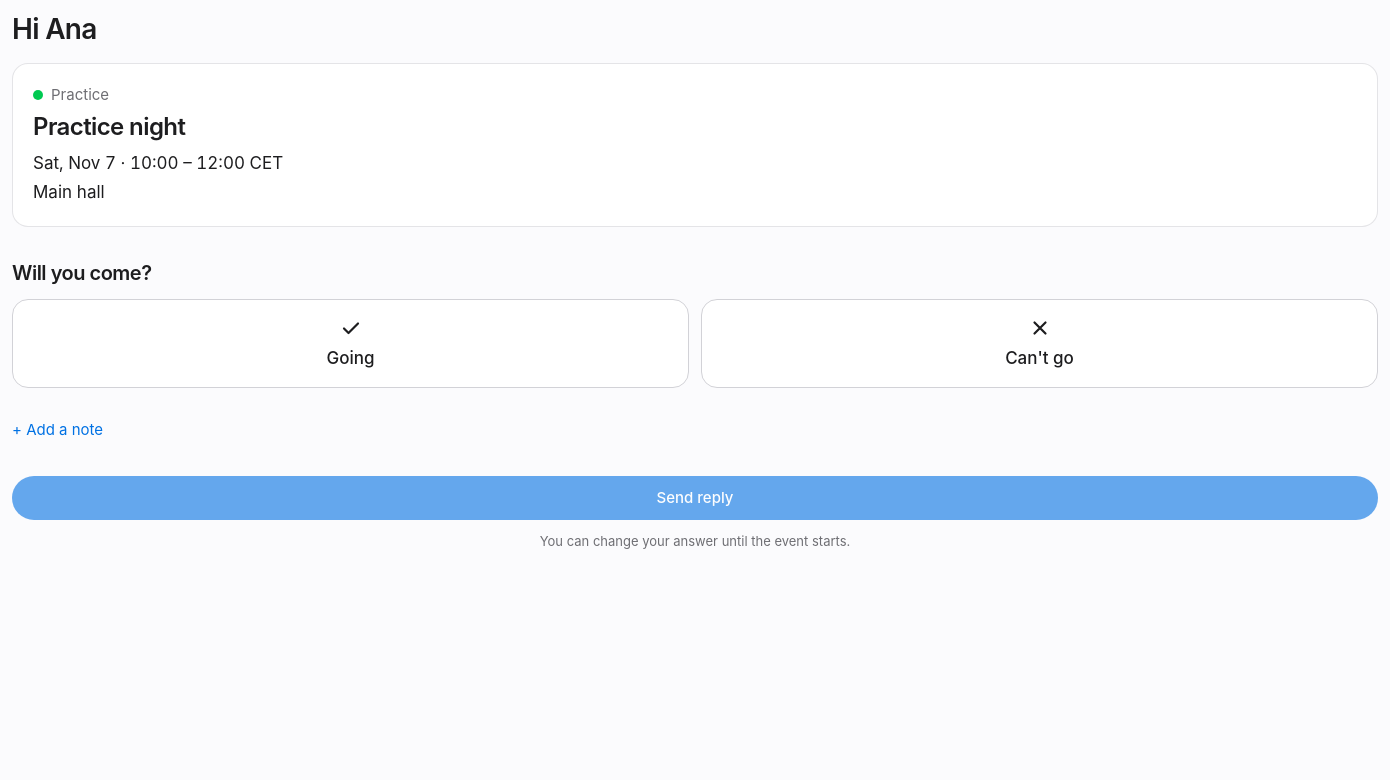
Scenario: MemberAttendanceView › the form › keeps Send reply disabled until a choice is made
Expected: the button "Send reply" is disabled, [12, 476, 1378, 520]
Step 1. Click the radio button labelled "Going" → click(350, 358), box [12, 298, 689, 388]
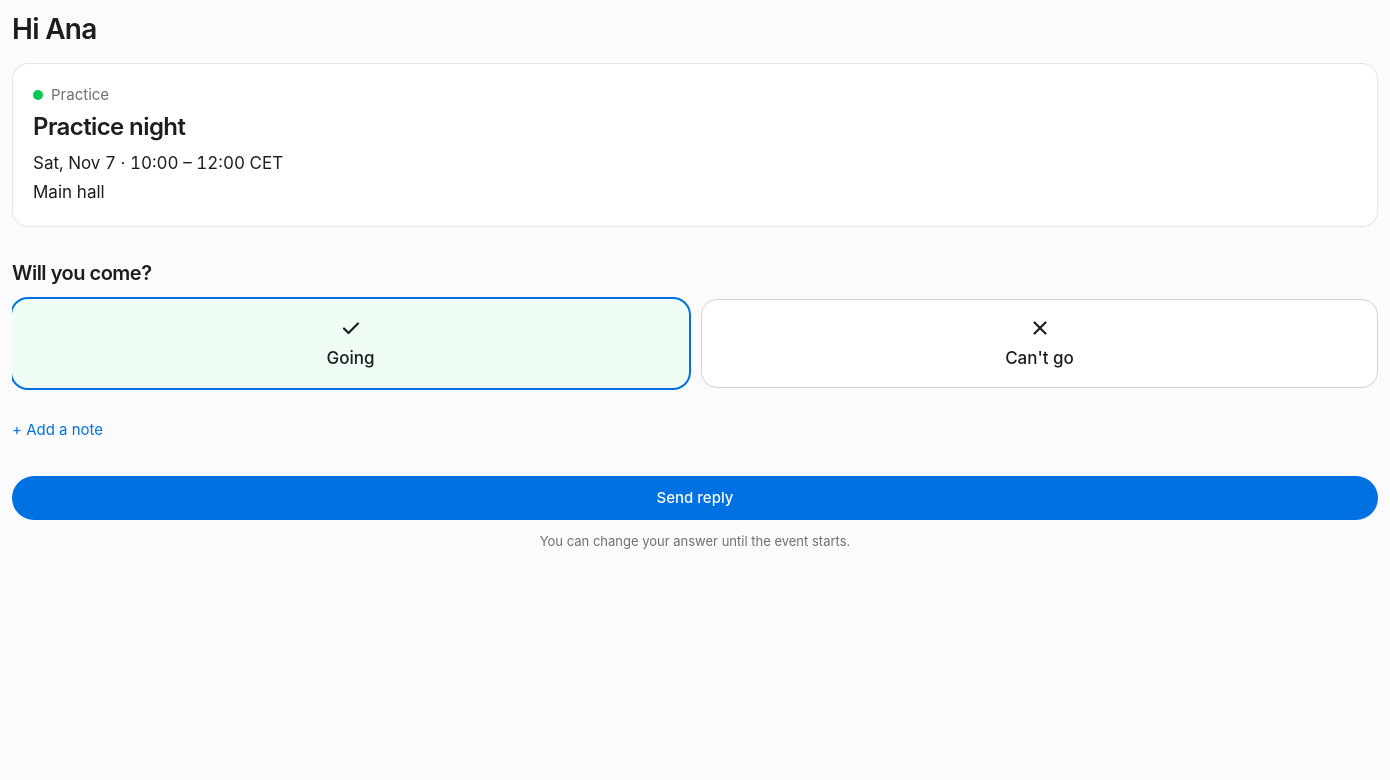
Now the button "Send reply" is enabled, box [12, 476, 1378, 520]
